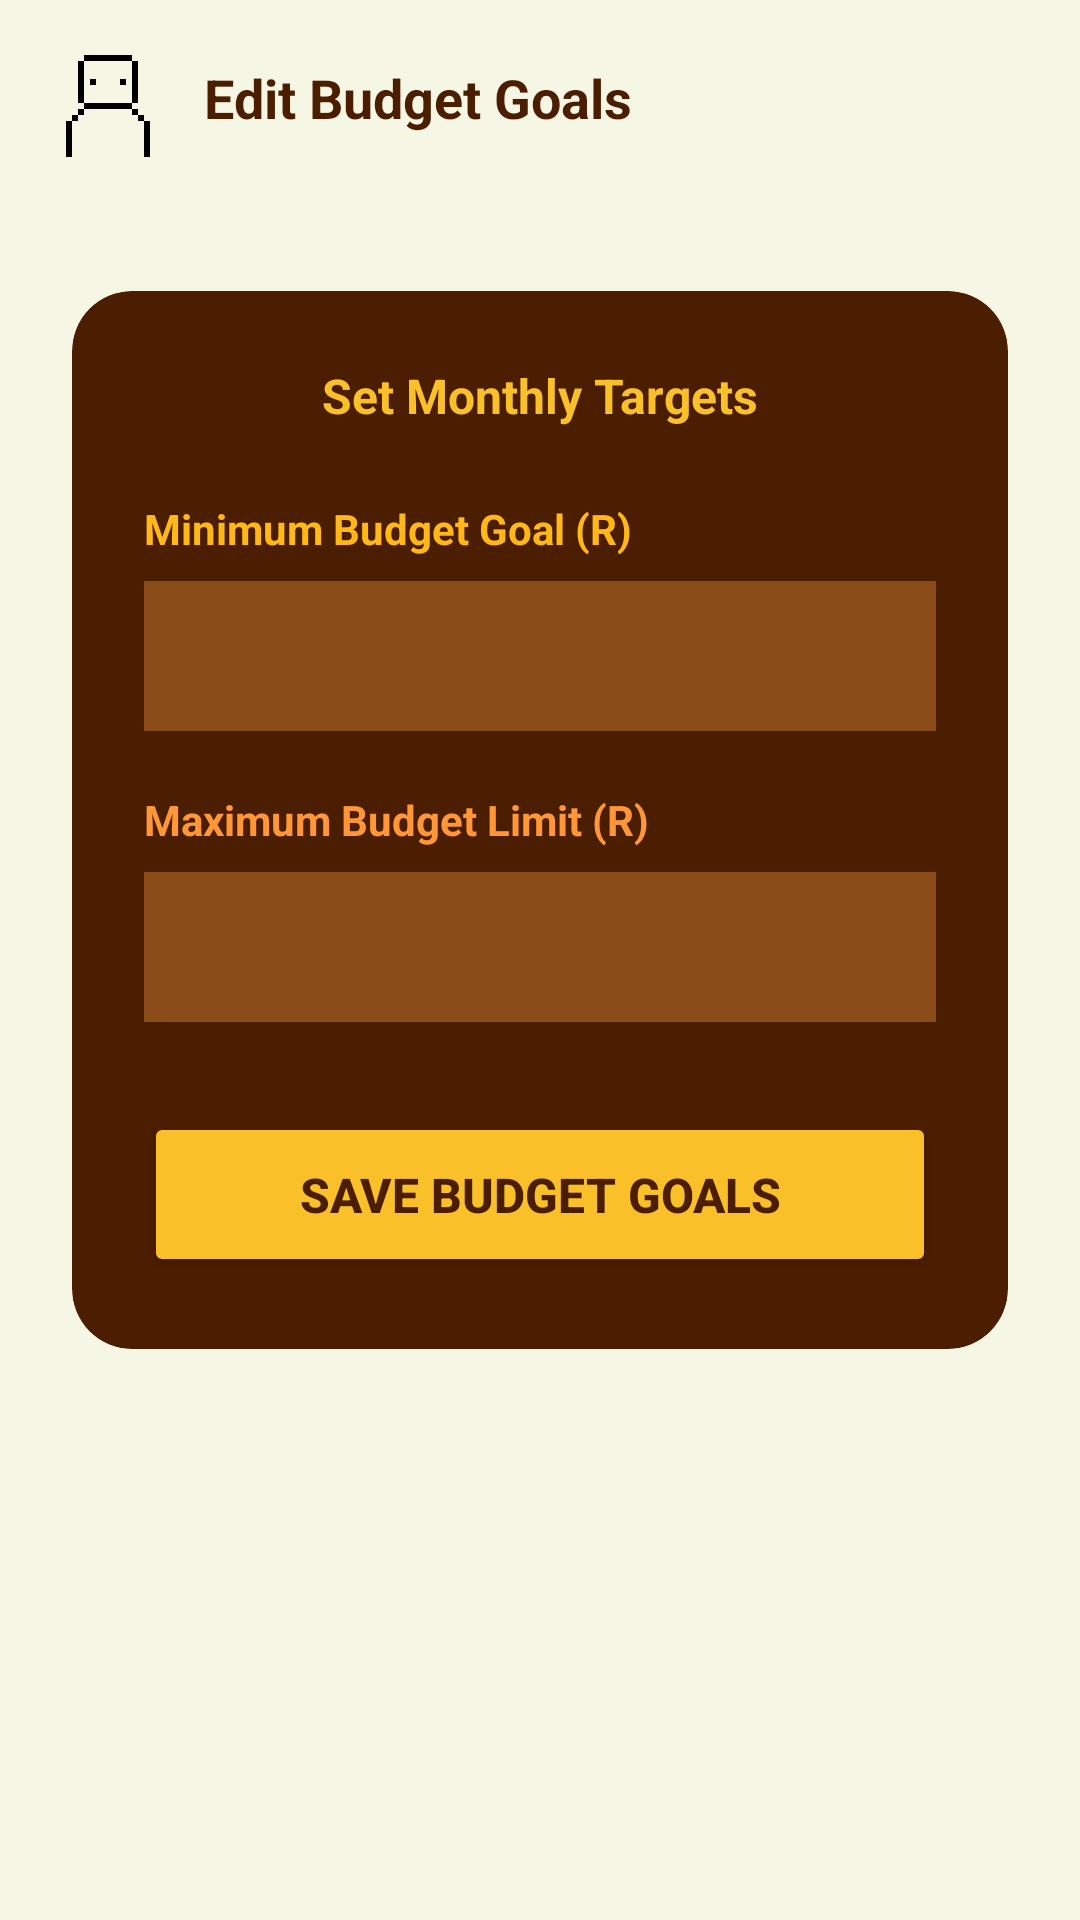

Icon click points for this 1080px×1920px phone screenshot, format point (x, y):
profileicon: point (108, 106)
